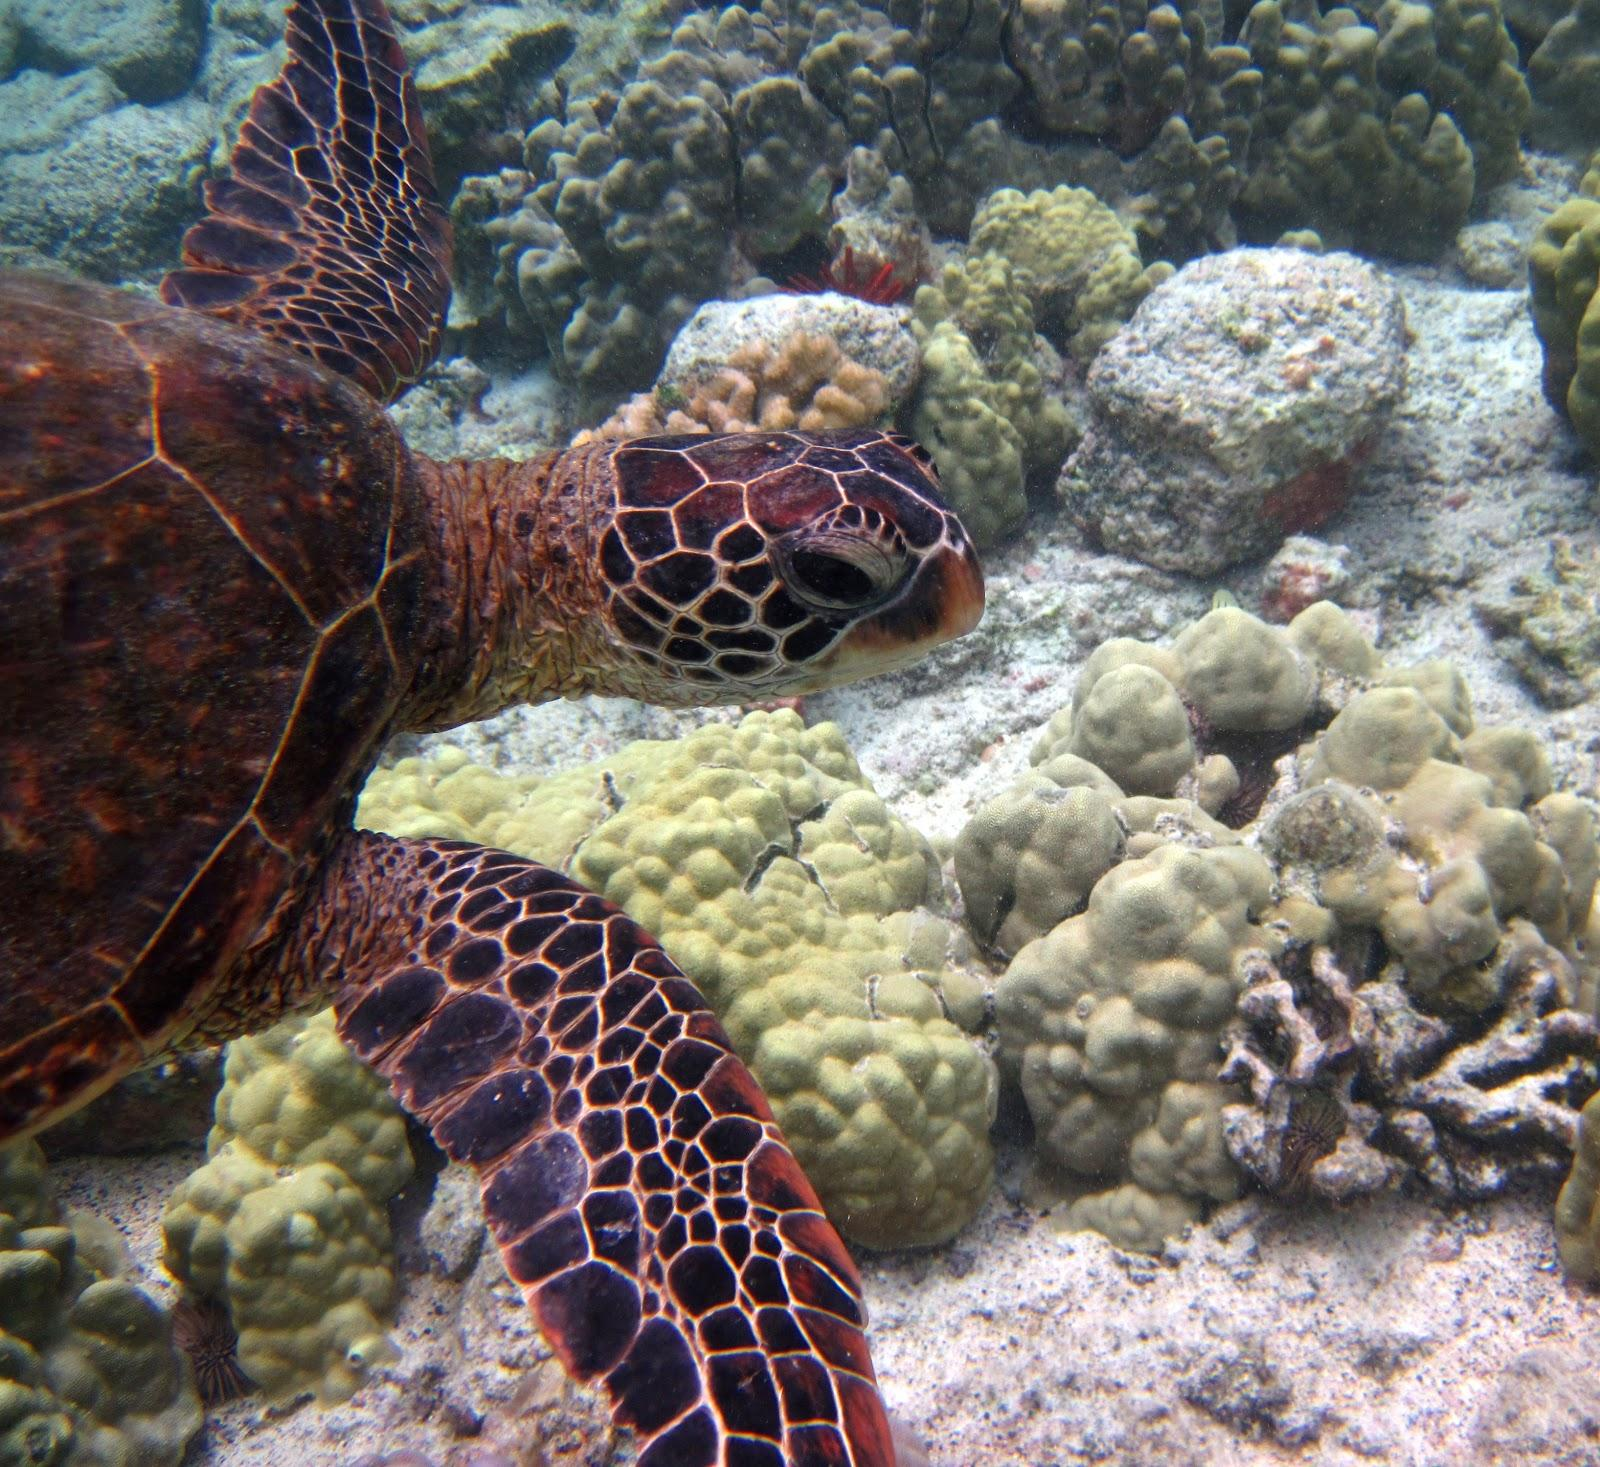turtle: (553, 396, 1012, 731)
